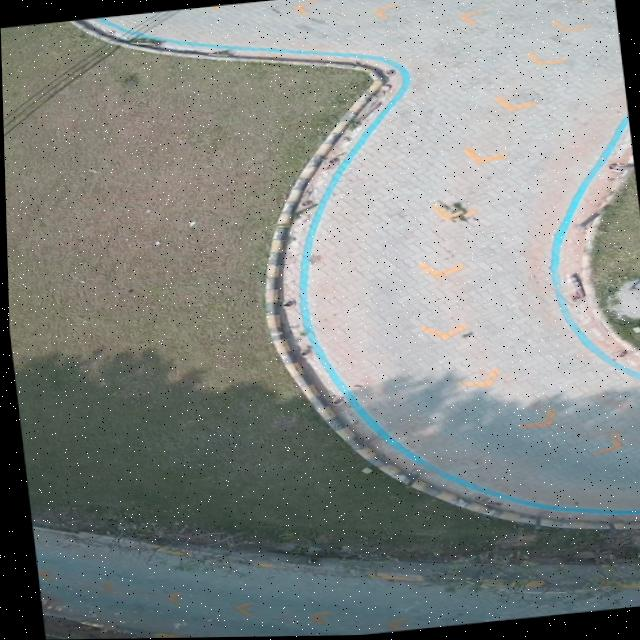No Car: (1, 0, 640, 640)
